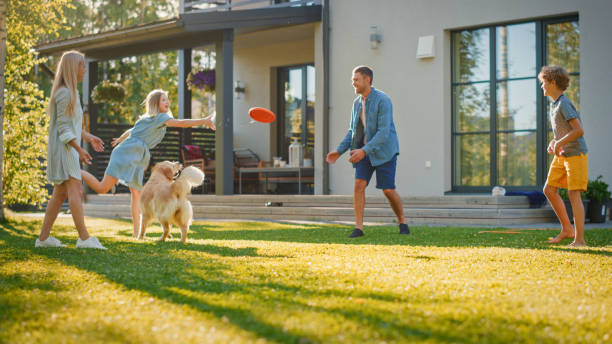without mask: (61, 54, 97, 90), (146, 82, 182, 118), (343, 61, 379, 97), (528, 65, 564, 101)
